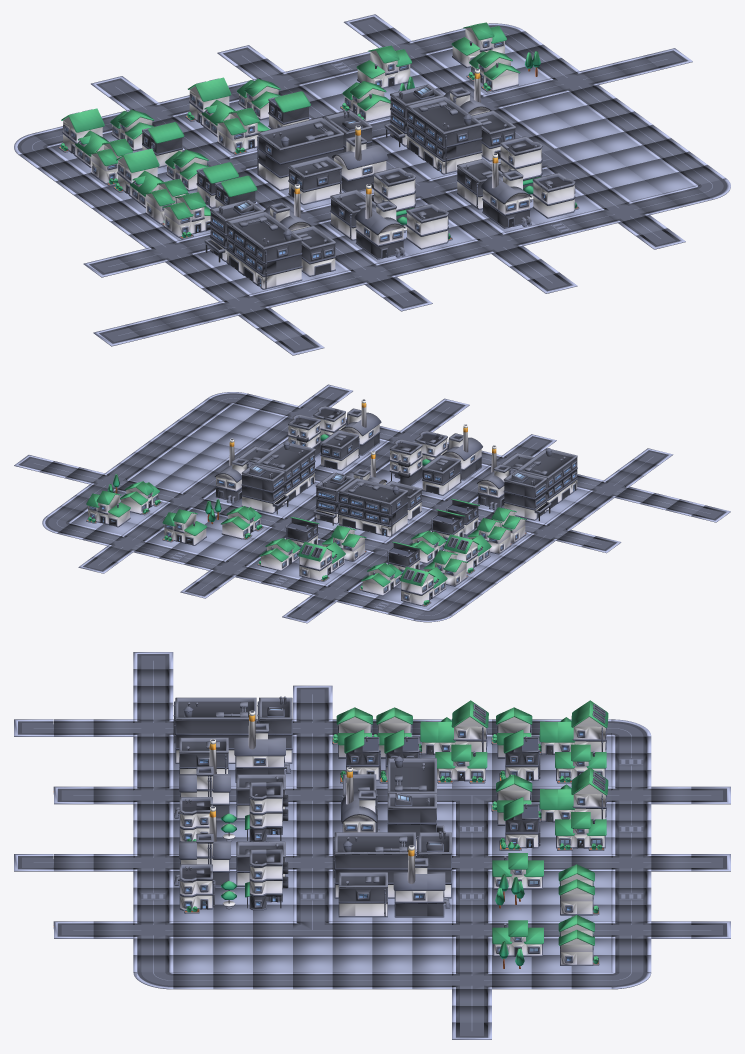
Rendered from city_01.glb.
3 views of the same model, one above another, from view 1: azimuth 30°, elevation 25°; view 2: azimuth 150°, elevation 25°; view 3: azimuth 270°, elevation 25° (orthographic). The views are drawn at different scales.
Visible parts, largest first — view 1: building-a.002, building-a.001, building-a, building-n.002, building-n.003, building-n, building-o, building-type-b, building-type-b.001, building-type-b.002, building-type-c.001, building-c.001 (+110 smaller); view 2: building-a, building-a.002, building-a.001, building-d.001, building-d.002, building-type-b, building-type-b.001, building-b, building-o.002, building-o.003, building-d, building-type-c.001 (+57 smaller); view 3: building-a.002, building-a.001, building-n.001, building-type-b, building-type-b.001, building-type-b.002, building-n.004, building-o.001, building-b.001, building-d, building-b, building-n.003 (+138 smaller).
Boxes of the visible parts, <box> form: building-a.002: <box>226,211,302,289</box>; building-a.001: <box>406,96,482,174</box>; building-a: <box>257,117,343,190</box>; building-n.002: <box>354,184,405,259</box>; building-n.003: <box>481,153,531,228</box>; building-n: <box>332,125,388,192</box>; building-o: <box>288,156,342,204</box>; building-type-b: <box>185,77,235,137</box>; building-type-b.001: <box>58,108,108,167</box>; building-type-b.002: <box>113,148,163,208</box>; building-type-c.001: <box>356,45,411,88</box>; building-c.001: <box>532,173,579,218</box>; building-a: <box>338,478,407,537</box>; building-a.002: <box>517,448,577,510</box>; building-a.001: <box>254,441,315,504</box>; building-d.001: <box>241,464,288,514</box>; building-d.002: <box>503,470,551,520</box>; building-type-b: <box>298,542,345,581</box>; building-type-b.001: <box>400,566,447,606</box>; building-b: <box>389,439,422,485</box>; building-o.002: <box>422,454,461,495</box>; building-o.003: <box>320,430,359,470</box>; building-d: <box>313,472,354,525</box>; building-type-c.001: <box>162,509,206,545</box>; building-a.002: <box>173,697,256,763</box>; building-a.001: <box>333,832,415,898</box>; building-n.001: <box>393,845,450,917</box>; building-type-b: <box>538,767,608,822</box>; building-type-b.001: <box>538,700,608,754</box>; building-type-b.002: <box>419,700,488,754</box>; building-n.004: <box>234,710,290,782</box>; building-o.001: <box>338,872,387,917</box>; building-b.001: <box>249,849,288,910</box>; building-d: <box>387,793,444,852</box>; building-b: <box>249,782,288,841</box>; building-n.003: <box>174,806,230,887</box>.
Bounding box in the file's own units: 23 × 1.9 × 18.
Materials: 29 (29 with a texture image).
